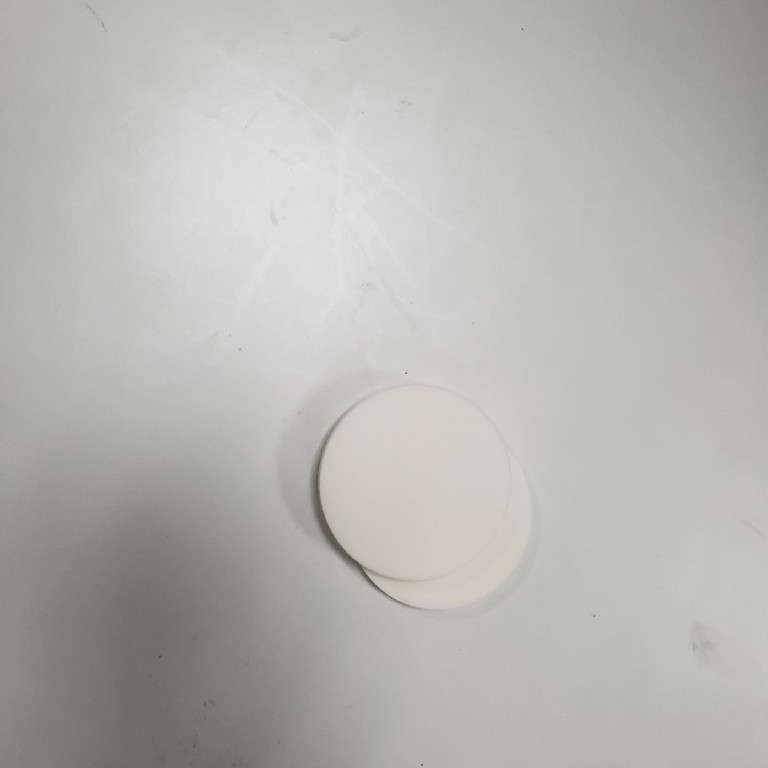ceramics: (310, 377, 536, 613)
